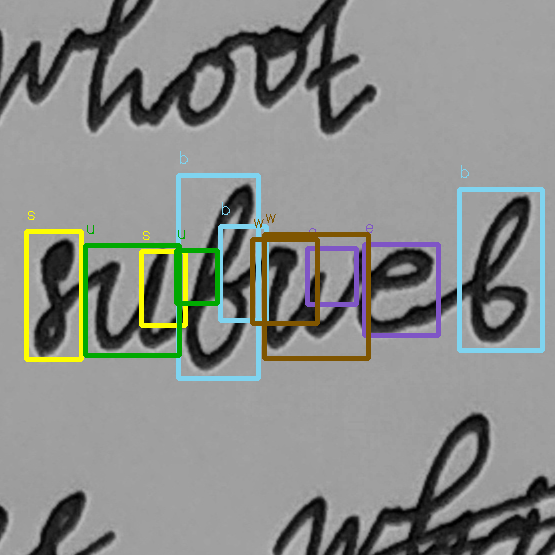b: (179, 179, 258, 374), (461, 189, 539, 350)
e: (359, 243, 442, 341)
s: (26, 233, 82, 362)
u: (89, 243, 172, 358)
w: (260, 240, 374, 355)
